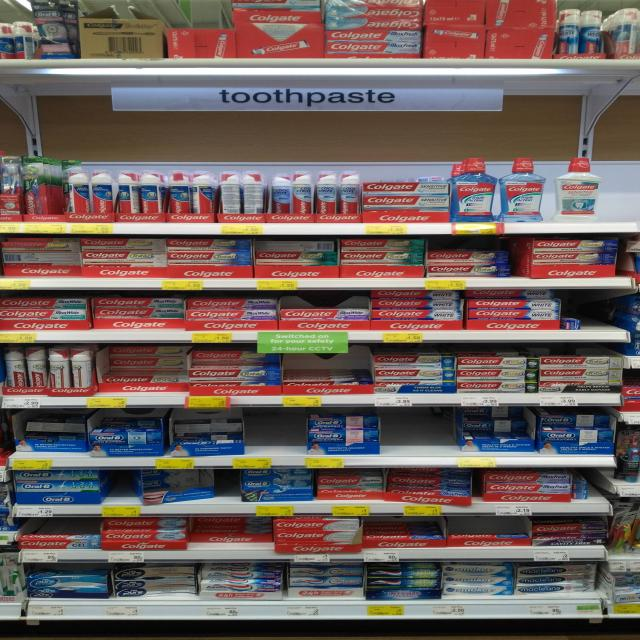unorganised: (385, 468, 472, 505), (137, 469, 217, 505), (113, 566, 197, 598), (189, 518, 273, 547), (110, 345, 188, 372), (464, 405, 529, 437), (220, 170, 264, 215), (191, 350, 280, 368), (2, 249, 82, 268), (22, 420, 90, 438), (175, 420, 243, 437), (466, 288, 557, 300), (94, 297, 185, 309), (541, 415, 612, 430), (189, 173, 214, 214), (255, 239, 339, 250), (372, 290, 463, 299)
